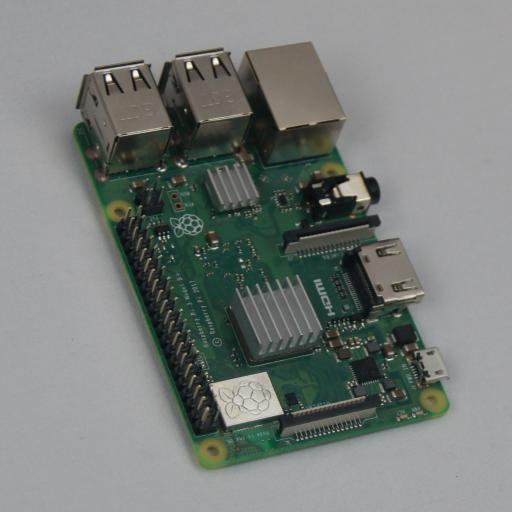Raspberry Pi 3 B-: (70, 42, 450, 469)
